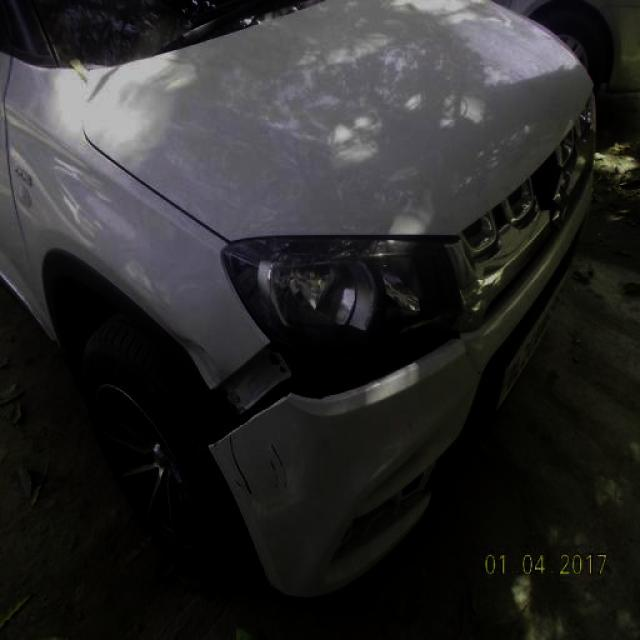car damage: (208, 331, 464, 453), (175, 332, 222, 391), (224, 434, 256, 505), (459, 326, 490, 382), (268, 439, 297, 495)
